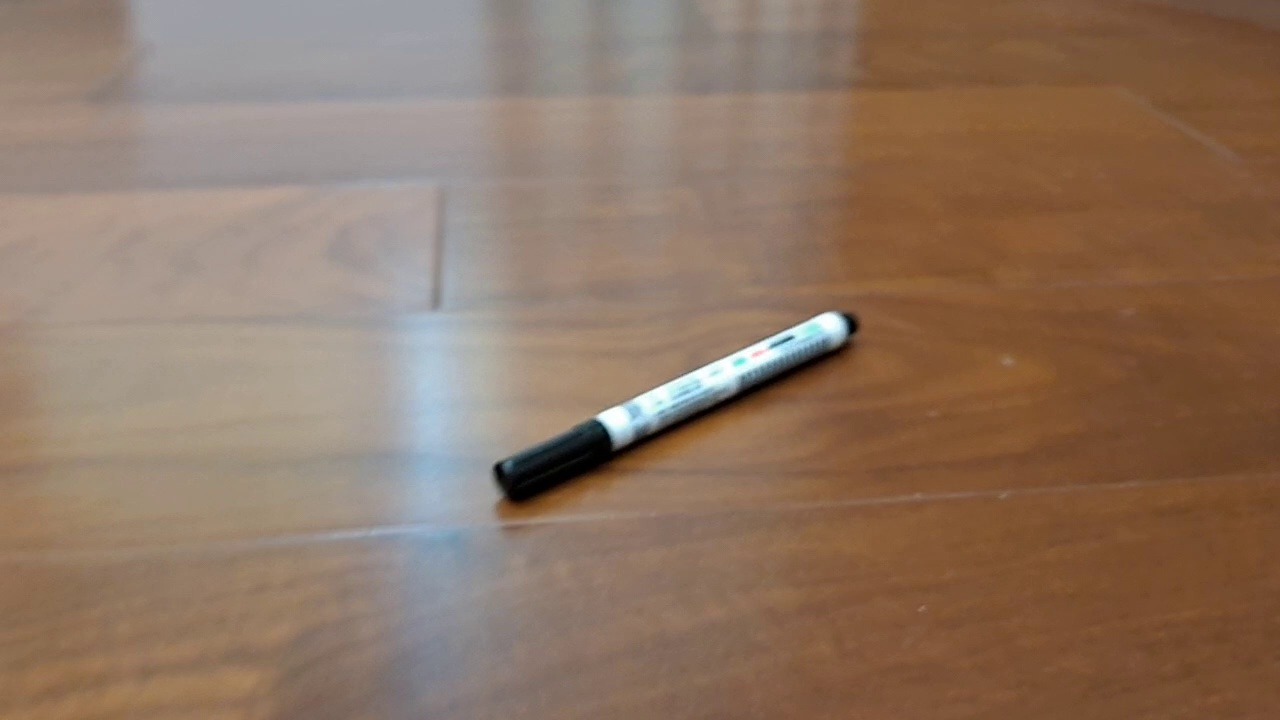pen: (493, 311, 858, 503)
